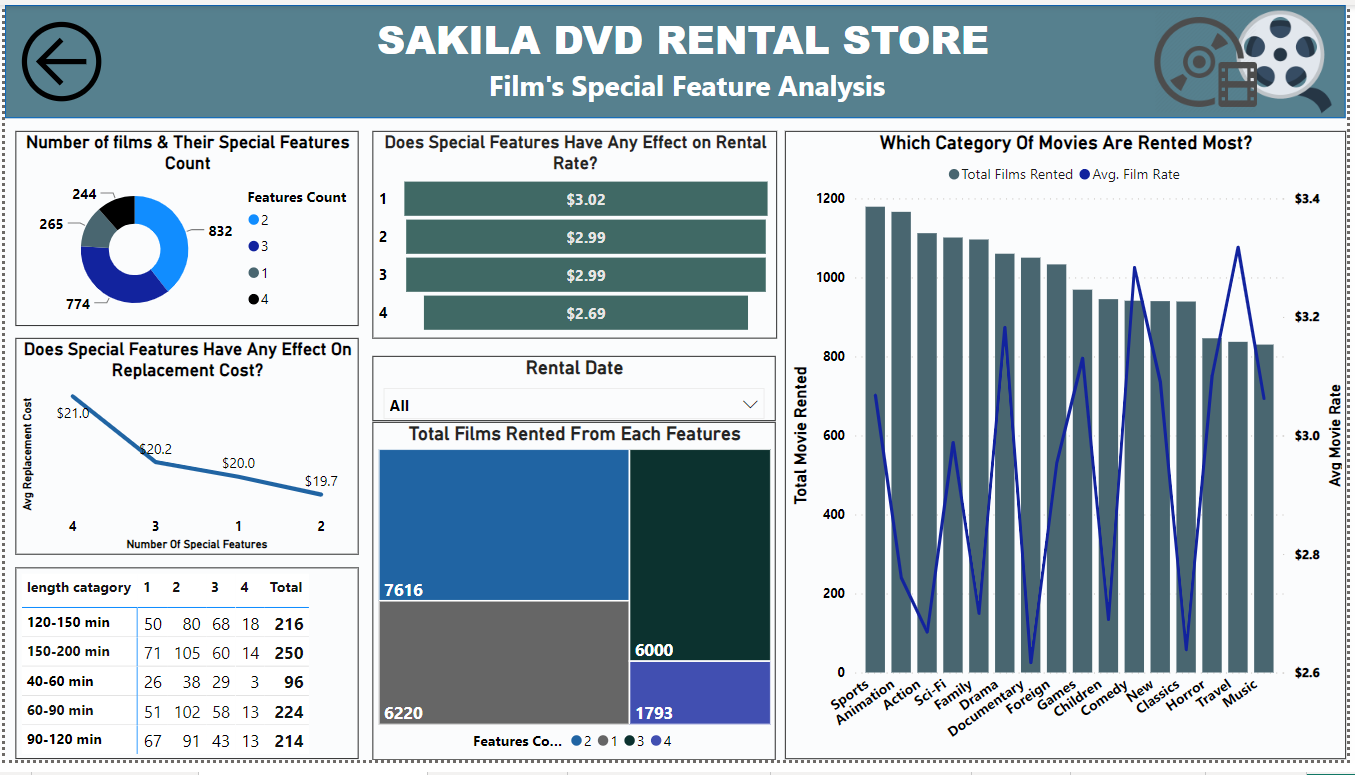

Layout of this report page (visuals, bound fields, positions):
{"tool":"powerbi","page":{"name":"film_special_features","canvas":[1280,720],"ordinal":2},"visuals":[{"type":"shape","box":[0,0,1279.5,108.1],"z":0},{"type":"image","box":[1160.3,0,119.2,108.1],"z":1000},{"type":"image","box":[1090.3,0,109.7,108.1],"z":2000},{"type":"textbox","box":[236.8,0,821.7,120.8],"z":3000},{"type":"lineStackedColumnComboChart","title":"Which Category Of Movies Are Rented Most?","fields":{"Category":["catgory.name"],"Y":["Sum(catgory.rent_number)"],"Y2":["Sum(catgory.avg_rate)"]},"box":[743.1,121.5,536.4,597.9],"z":4000},{"type":"lineChart","title":"Does Special Features Have Any Effect On Replacement Cost?","fields":{"Category":["sakila film.special feature Count"],"Y":["Avg(sakila film.replacement_cost)"]},"box":[9.5,317.9,327.4,206.6],"z":5000},{"type":"funnel","title":"Does Special Features Have Any Effect on Rental Rate?","fields":{"Category":["sakila film.special feature Count"],"Y":["Avg(sakila film.rental_rate)"]},"box":[350.5,120.6,386.3,197.8],"z":6000},{"type":"donutChart","title":"Number of films & Their Special Features Count","fields":{"Category":["sakila film.special feature Count"],"Y":["Sum(sakila film.special feature Count)"]},"box":[9.5,120.8,327.4,186],"z":7000},{"type":"treemap","title":"Total Films Rented From Each Features ","fields":{"Group":["sakila film.special feature Count"],"Values":["CountNonNull(sakila rental.rental_id)"]},"box":[351.3,397.4,384.6,322.6],"z":8000},{"type":"pivotTable","fields":{"Rows":["sakila film.length catagory"],"Columns":["sakila film.special feature Count"],"Values":["CountNonNull(sakila film.film_id)"]},"box":[9.5,537.2,327.4,182.8],"z":9000},{"type":"actionButton","box":[0,0,109.7,108.1],"z":10000},{"type":"slicer","title":"Rental Date","fields":{"Values":["sakila rental.rented_year","sakila rental.month_rent"]},"box":[350.5,335.4,384.4,62.2],"z":11000}]}

Visuals, with their boxes in screenshot pixels (x1, y1, x2, y2), scaled from the page's 1280x720 canvas onto the 1355x775 screenshot:
shape: region(0, 0, 1354, 116)
image: region(1228, 0, 1354, 116)
image: region(1154, 0, 1270, 116)
textbox: region(251, 0, 1121, 130)
"Which Category Of Movies Are Rented Most?" lineStackedColumnComboChart: region(787, 131, 1354, 774)
"Does Special Features Have Any Effect On Replacement Cost?" lineChart: region(10, 342, 357, 565)
"Does Special Features Have Any Effect on Rental Rate?" funnel: region(371, 130, 780, 343)
"Number of films & Their Special Features Count" donutChart: region(10, 130, 357, 330)
"Total Films Rented From Each Features " treemap: region(372, 428, 779, 774)
pivotTable - sakila film.length catagory x sakila film.special feature Count: region(10, 578, 357, 774)
actionButton: region(0, 0, 116, 116)
"Rental Date" slicer: region(371, 361, 778, 428)
